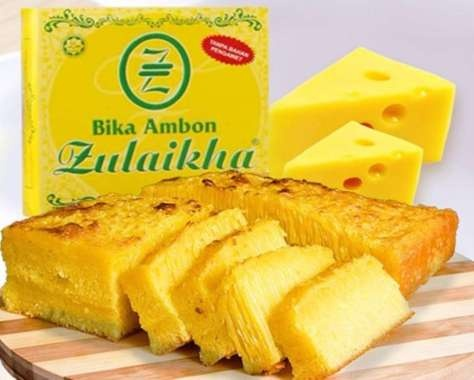bika_ambon: (277, 244, 415, 380)
